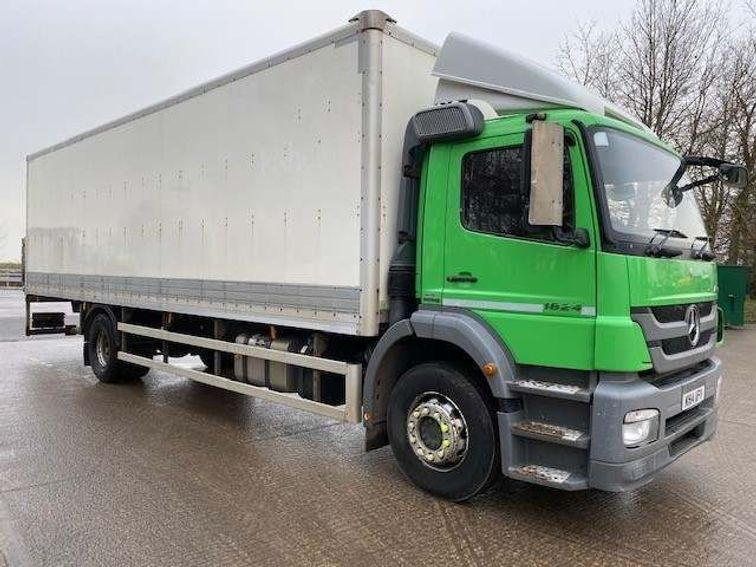Semi: (24, 10, 722, 502)
